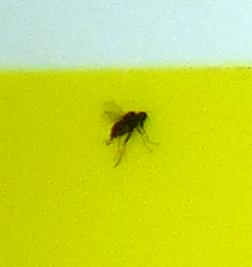Brachycera: (100, 100, 152, 167)
